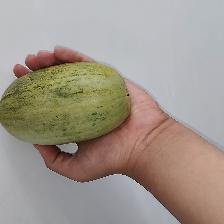gua: (17, 72, 124, 132)
